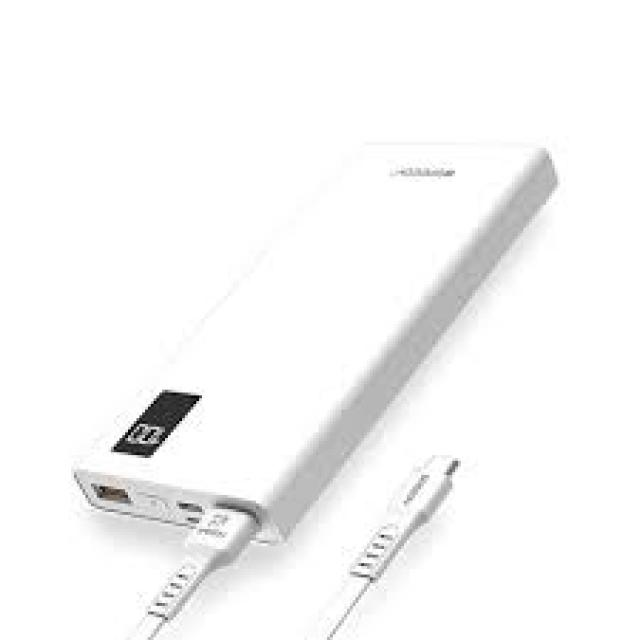portable-charger: (76, 135, 558, 548)
